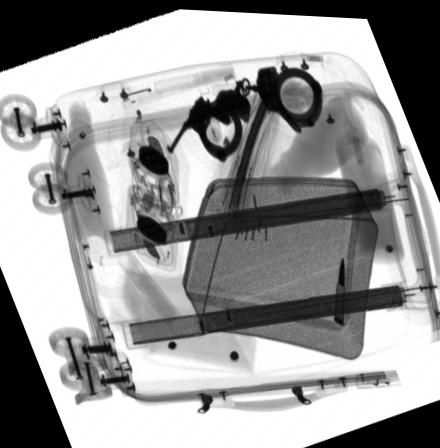Bullet: (334, 255, 345, 324)
Gun: (166, 93, 231, 153)
HandCuffs: (198, 63, 323, 160)
